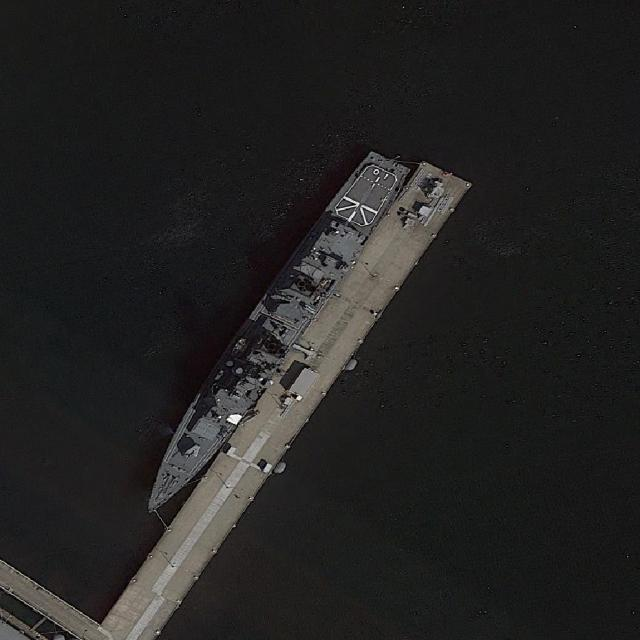Destroyer: (122, 138, 420, 532)
